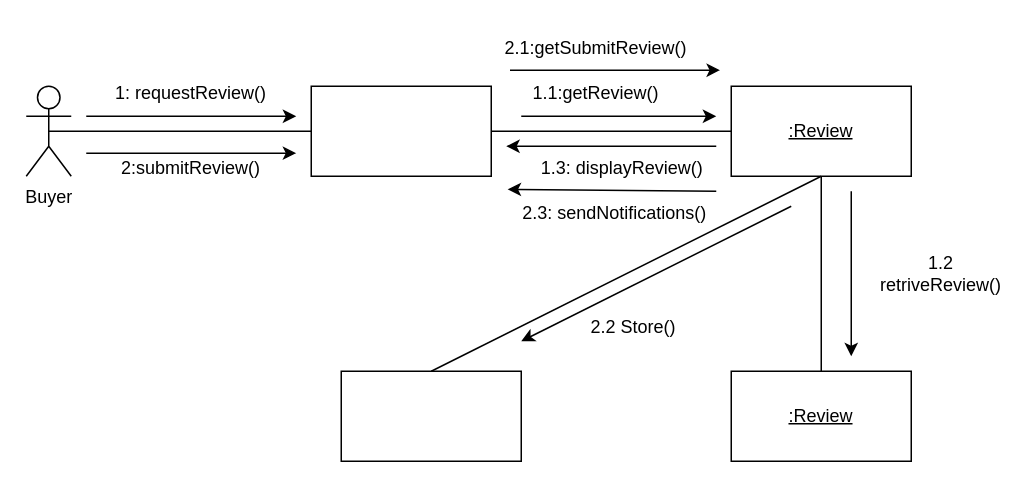
Some shapes in this 1028 by 488 pixel diagram are drawn without their labels. The centre of each missing label's shape, as x and y in pixels:
":ReviewUI" belongs at (400,130).
":Store" belongs at (430,415).
